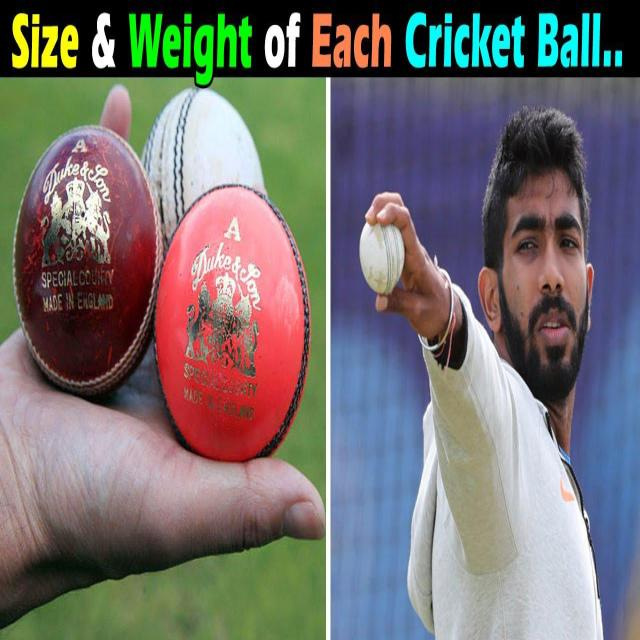ball: (159, 183, 313, 464), (16, 124, 162, 386), (138, 89, 268, 297), (358, 214, 406, 294)
